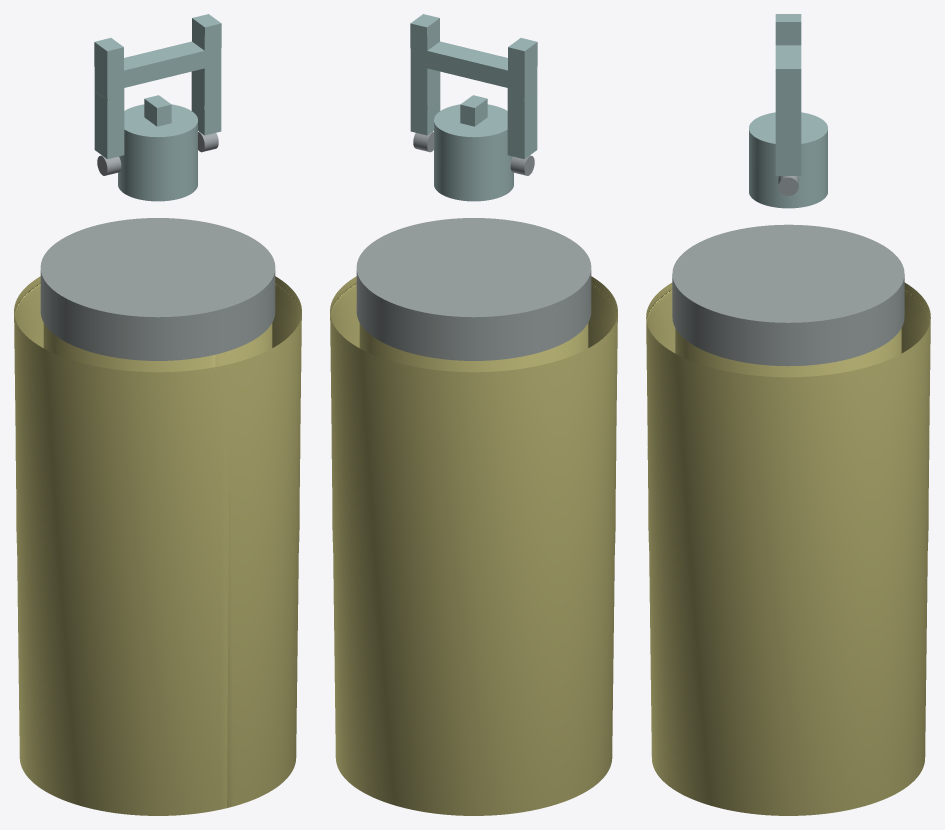
Rendered from stanley-iceflow-30-fit.glb.
3 views of the same model, side by side, from view 1: azimuth 30°, elevation 25°; view 2: azimuth 150°, elevation 25°; view 3: azimuth 270°, elevation 25° (orthographic).
Visible parts, largest first — view 1: body_mesh, rim_mesh, handle_group, lid_mesh, latch_mesh; view 2: body_mesh, rim_mesh, handle_group, lid_mesh, latch_mesh; view 3: body_mesh, rim_mesh, lid_mesh, handle_group.
Part boxes in pixels (x1,y1,x2,y2): body_mesh: (14,276,301,815); rim_mesh: (40,218,275,360); handle_group: (94,14,221,175); lid_mesh: (118,104,197,201); latch_mesh: (144,95,171,126); body_mesh: (330,276,617,815); rim_mesh: (356,218,591,360); handle_group: (410,14,537,175); lid_mesh: (434,104,513,201); latch_mesh: (460,95,487,126); body_mesh: (646,282,930,815); rim_mesh: (672,224,904,366); lid_mesh: (749,112,827,208); handle_group: (775,14,801,195).
Size of the model in its own units: 89.36 by 248 by 89.36.
